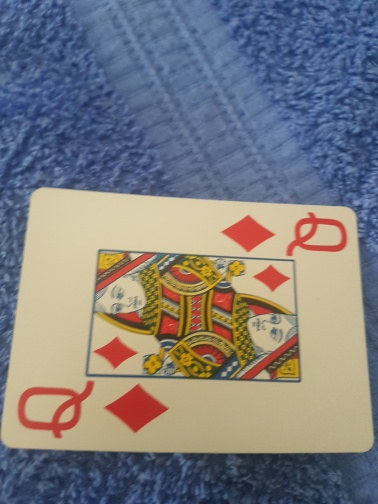queen: (1, 188, 378, 452)
